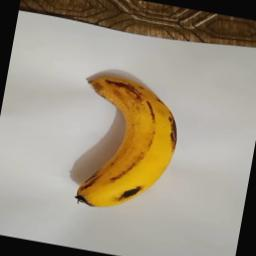Banana Unripe: (60, 67, 190, 222)
